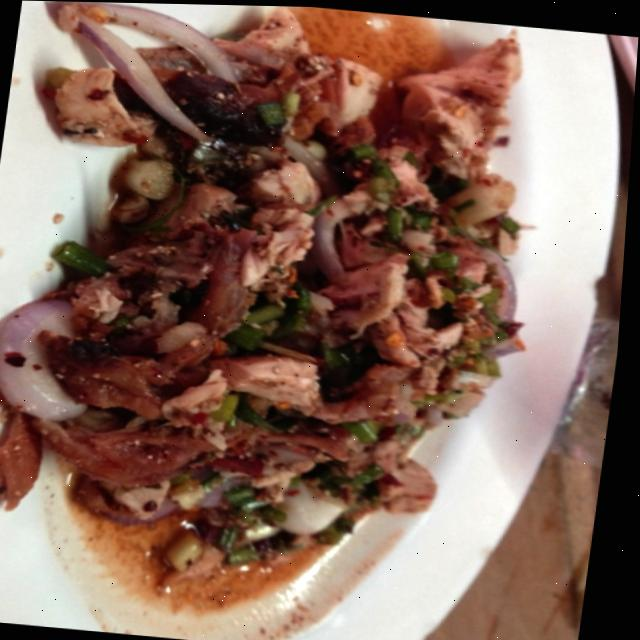鸡肉料理 含炸鸡: (0, 0, 616, 639)
